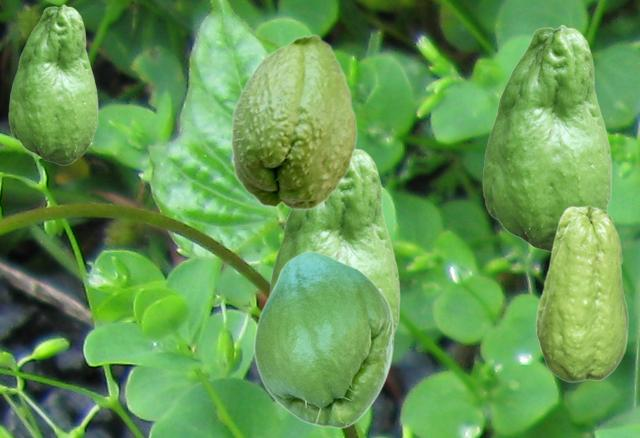sayote: (482, 24, 611, 252), (253, 251, 393, 428), (268, 148, 399, 336), (230, 33, 357, 210), (535, 205, 628, 382), (8, 4, 97, 164)
